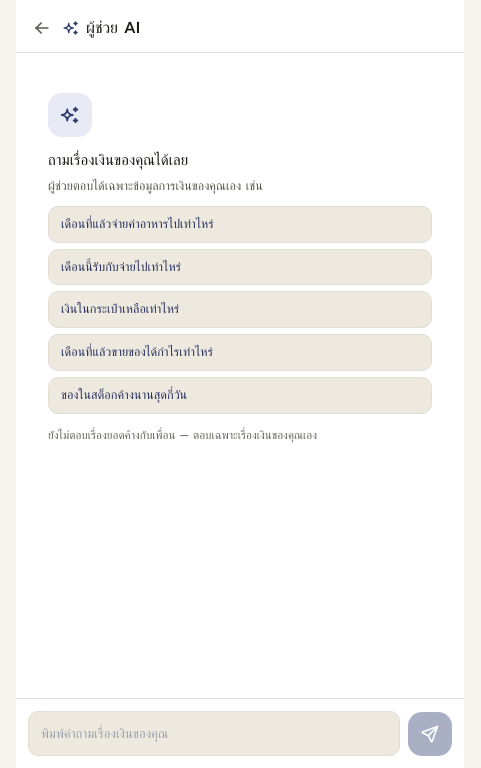
Test case: bubble renders **bold** only (no raw markdown on screen) › an unmatched ** is left literal (visible signal the prompt was violated) — no crash
The image size is (481, 768).
In the text box labelled "พิมพ์คำถาม": (214, 733) [28, 710, 400, 756], type "q"
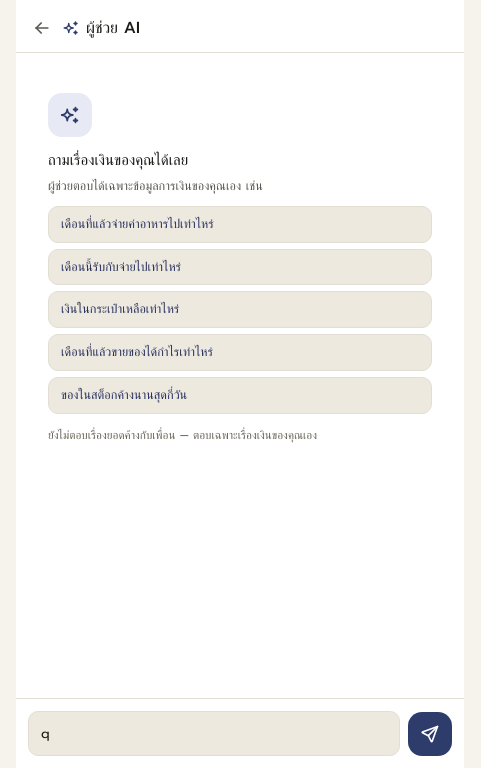
Click the button named "ส่งคำถาม": (430, 734) [408, 712, 452, 756]
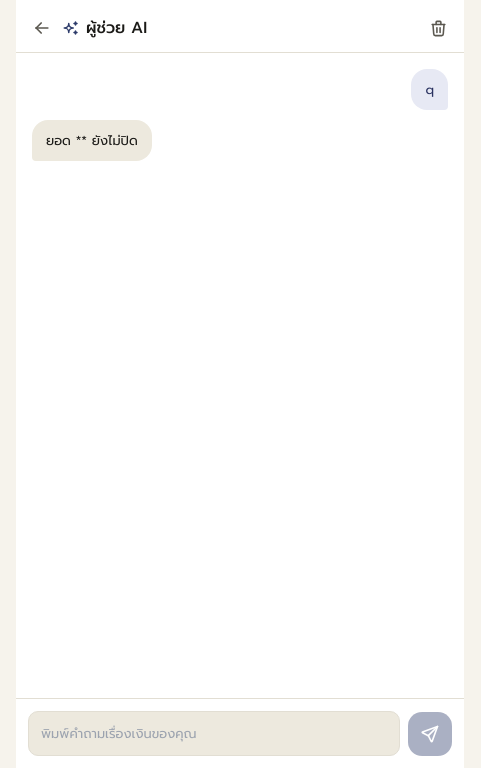
Now the text "ยอด ** ยังไม่ปิด" is shown, box [32, 120, 152, 161]
